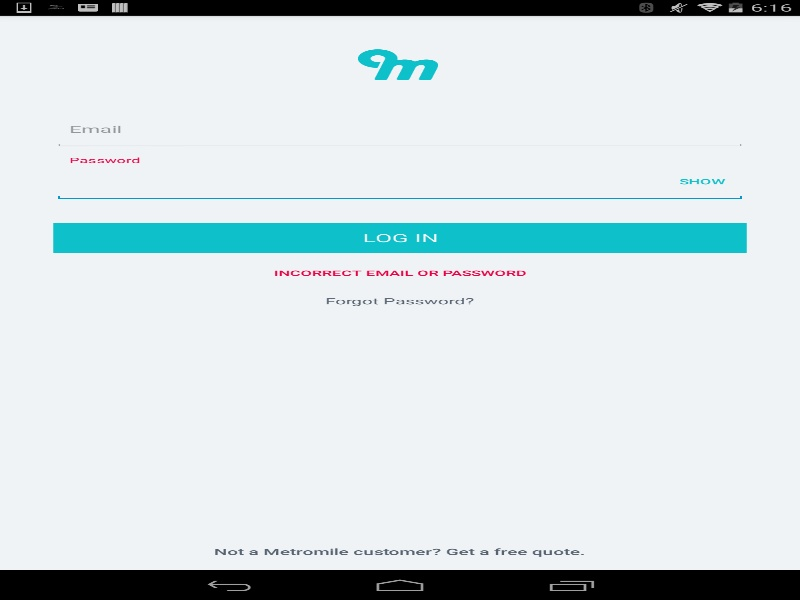Button: (53, 222, 746, 252)
Input: (53, 110, 746, 148), (53, 163, 746, 201)
